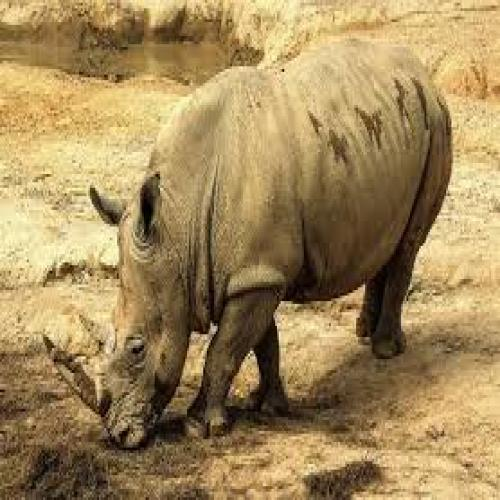rhino-endangered: (45, 38, 450, 450)
